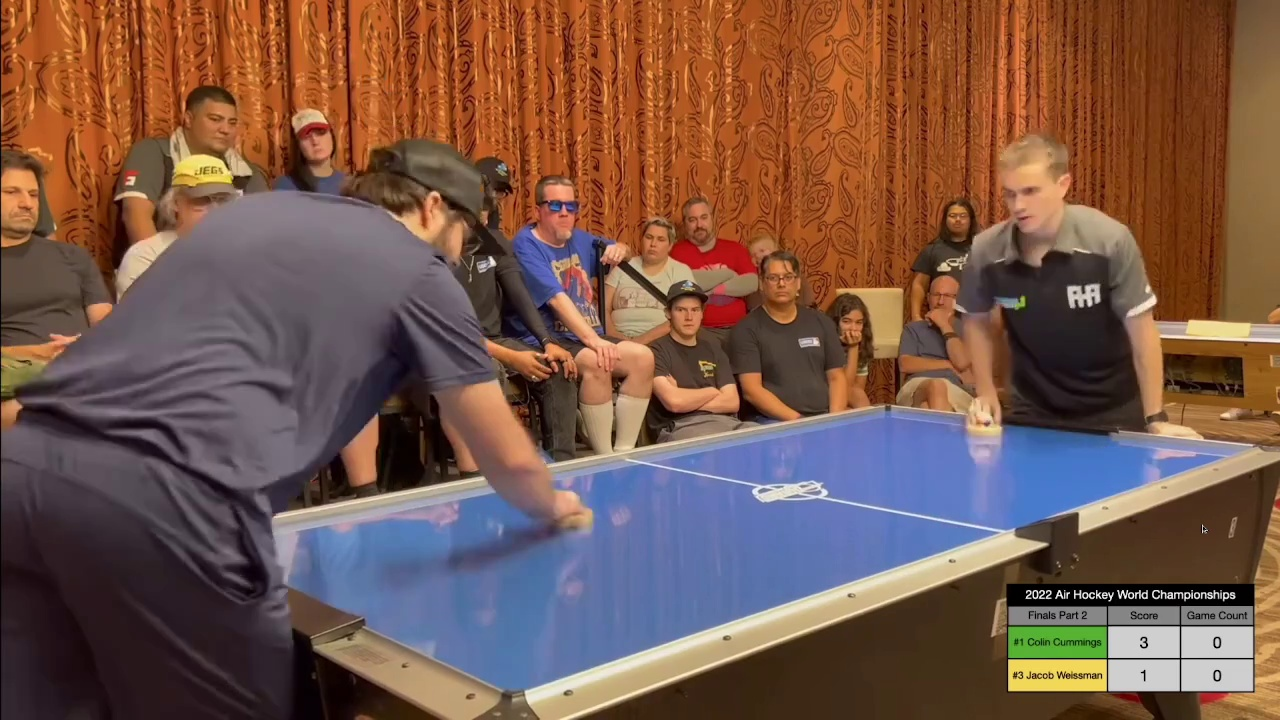player: (551, 489, 595, 526), (966, 407, 1005, 436)
table: (230, 402, 1280, 693)
